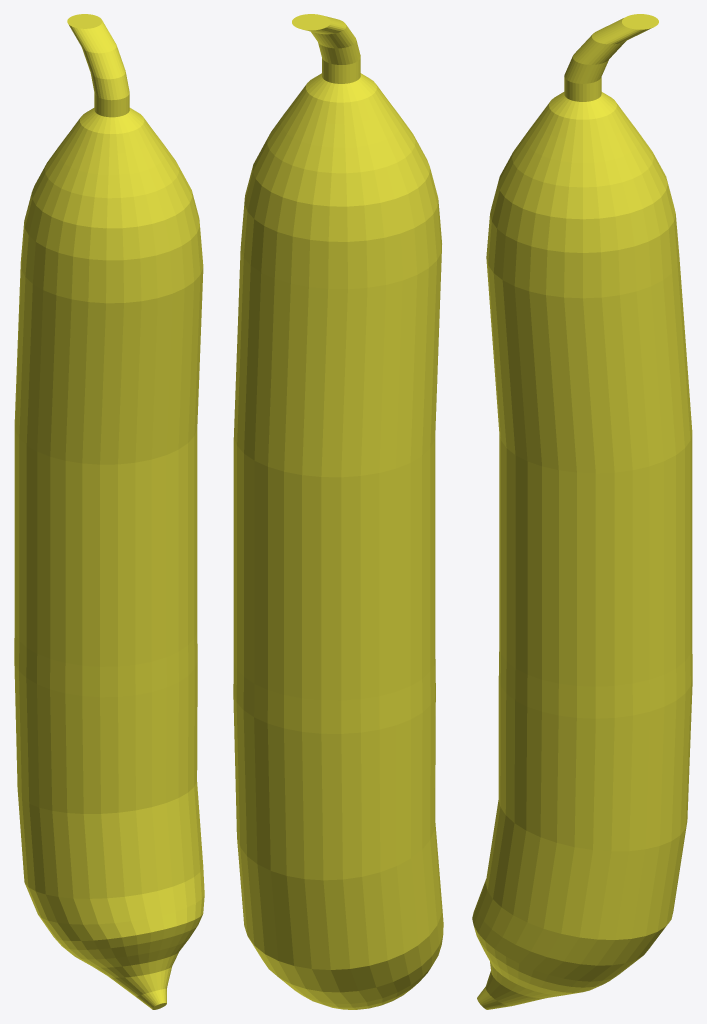
File: banana.fbx
3 renders of one model, left to right at view 1: azimuth 30°, elevation 25°; view 2: azimuth 150°, elevation 25°; view 3: azimuth 270°, elevation 25°, orthographic. The views are drawn at different scales.
Visible parts, largest first — view 1: Cylinder; view 2: Cylinder; view 3: Cylinder.
Part boxes in pixels (left/top/right/bottom): Cylinder: left=14, top=14, right=204, bottom=1009; Cylinder: left=233, top=14, right=443, bottom=1009; Cylinder: left=472, top=14, right=692, bottom=1009.
Bounding box in the file's own units: 201 × 1128 × 228.
